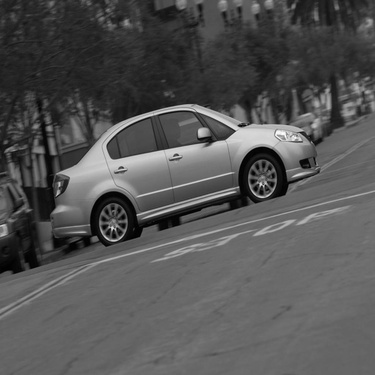car: (42, 100, 322, 247), (1, 175, 41, 276), (286, 114, 315, 142), (298, 106, 323, 138)
